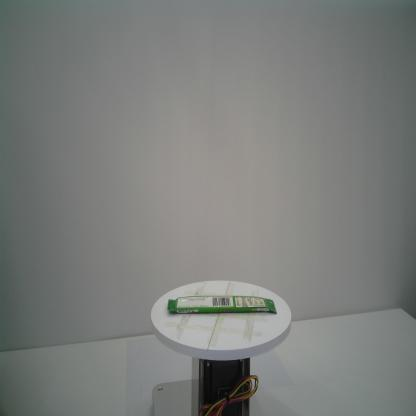Chocolate: (167, 295, 277, 314)
